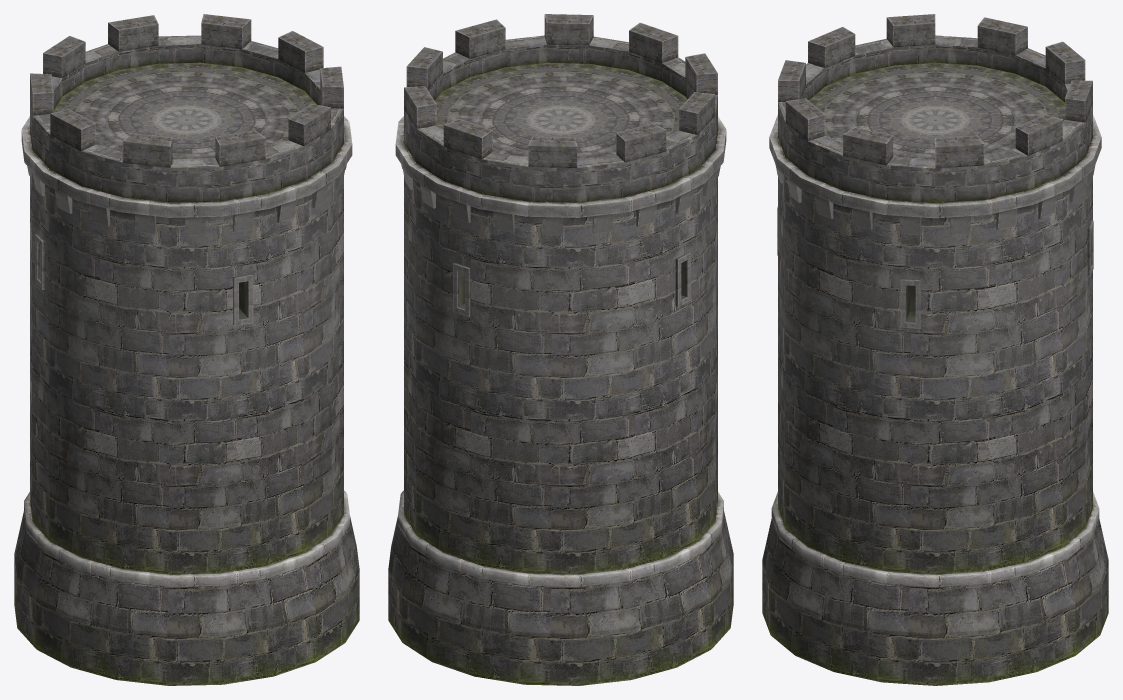
Rendered from CastleColumn.FBX.
The picture shows the model from 3 angles, left to right: view 1: azimuth 30°, elevation 25°; view 2: azimuth 150°, elevation 25°; view 3: azimuth 270°, elevation 25°; orthographic projection.
Parts seen in each view (by area): view 1: CastleColumn; view 2: CastleColumn; view 3: CastleColumn.
Boxes of the visible parts, x1,y1,x2,y2 form: CastleColumn: (14,14,359,685); CastleColumn: (388,14,733,685); CastleColumn: (762,14,1108,685).
Size of the model in its own units: 1838 by 3113 by 1838.
